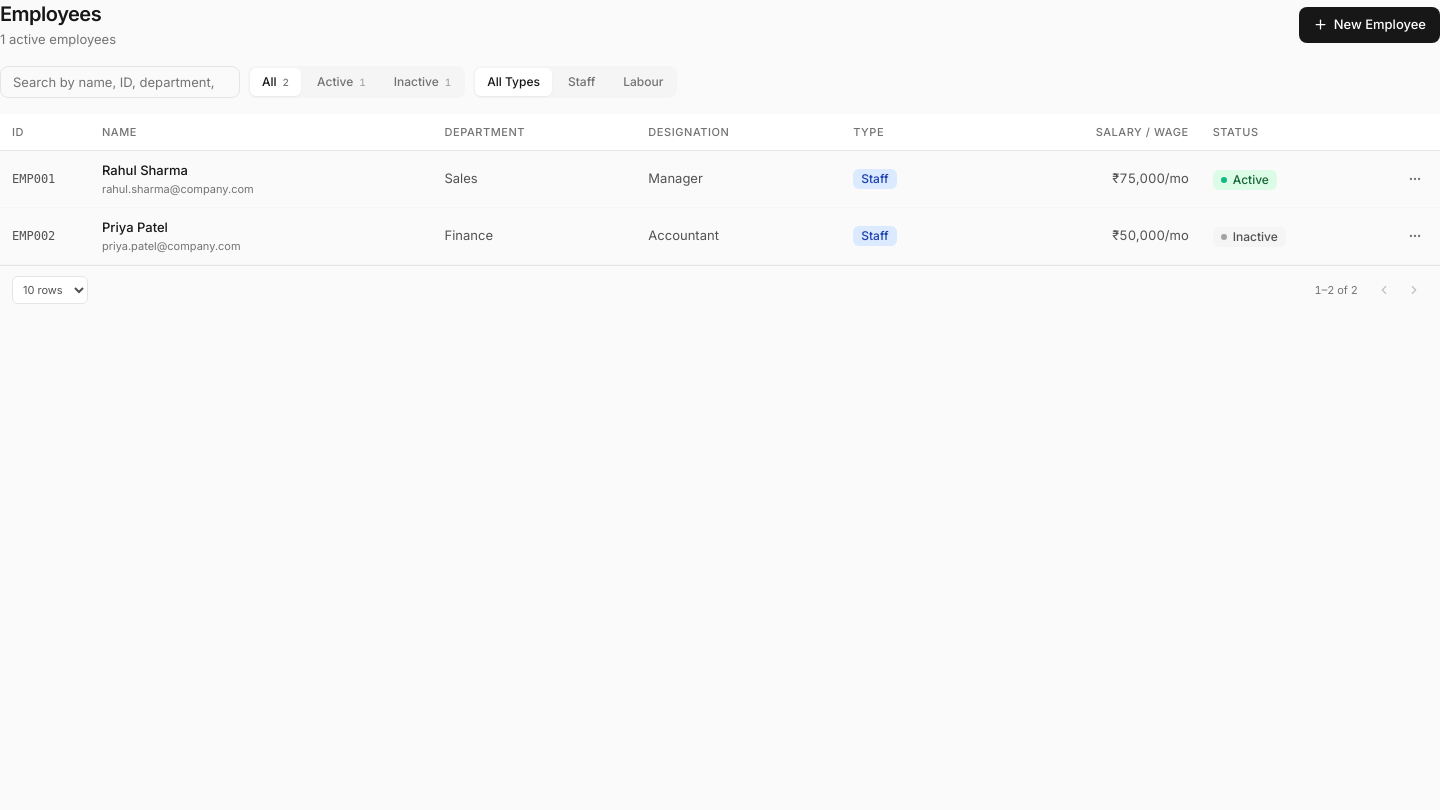
Scenario: EmployeesPage › validates required fields on create
The image size is (1440, 810).
Click the button "New Employee": (1369, 25) [1299, 7, 1439, 43]
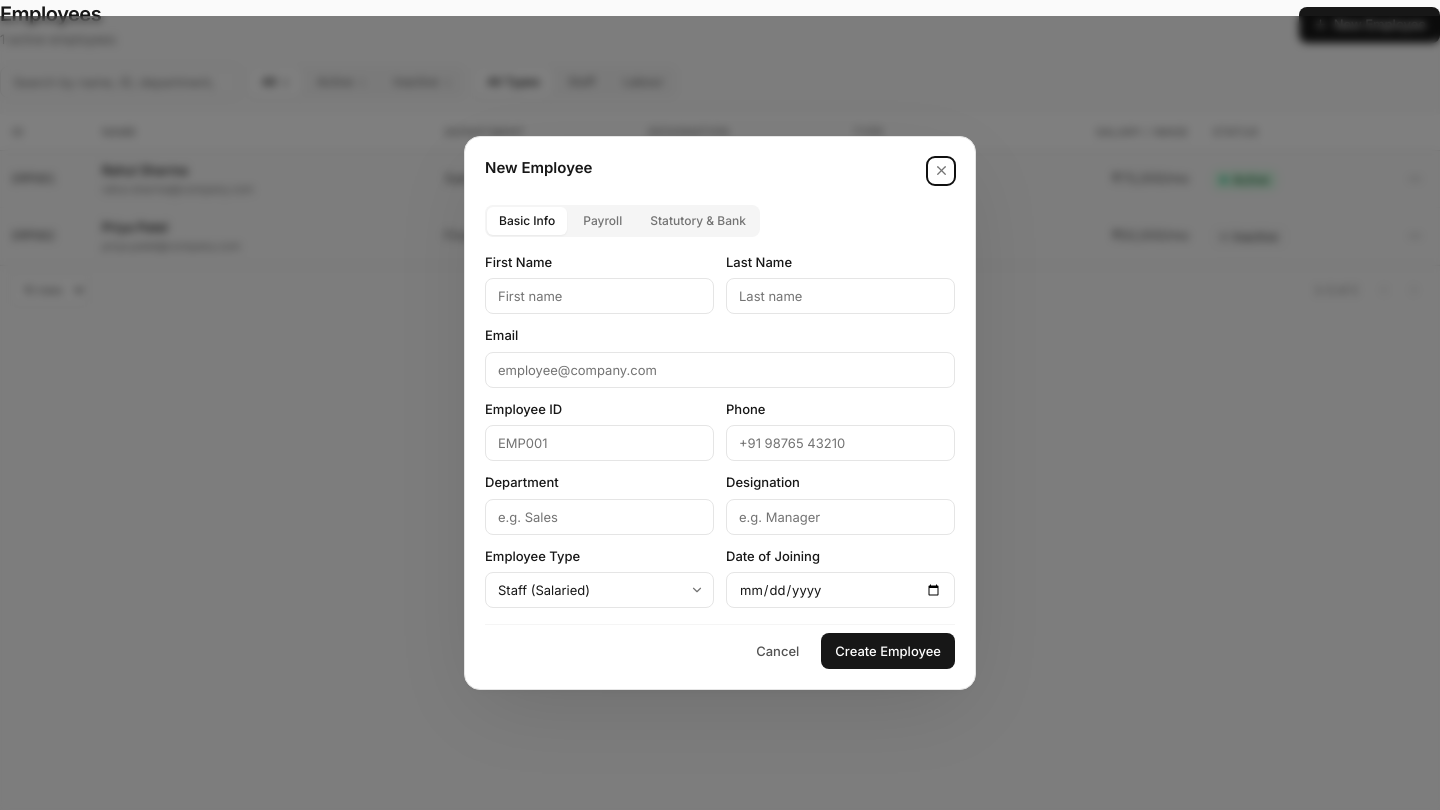
Click the button "Create Employee": (888, 651) [821, 633, 955, 669]
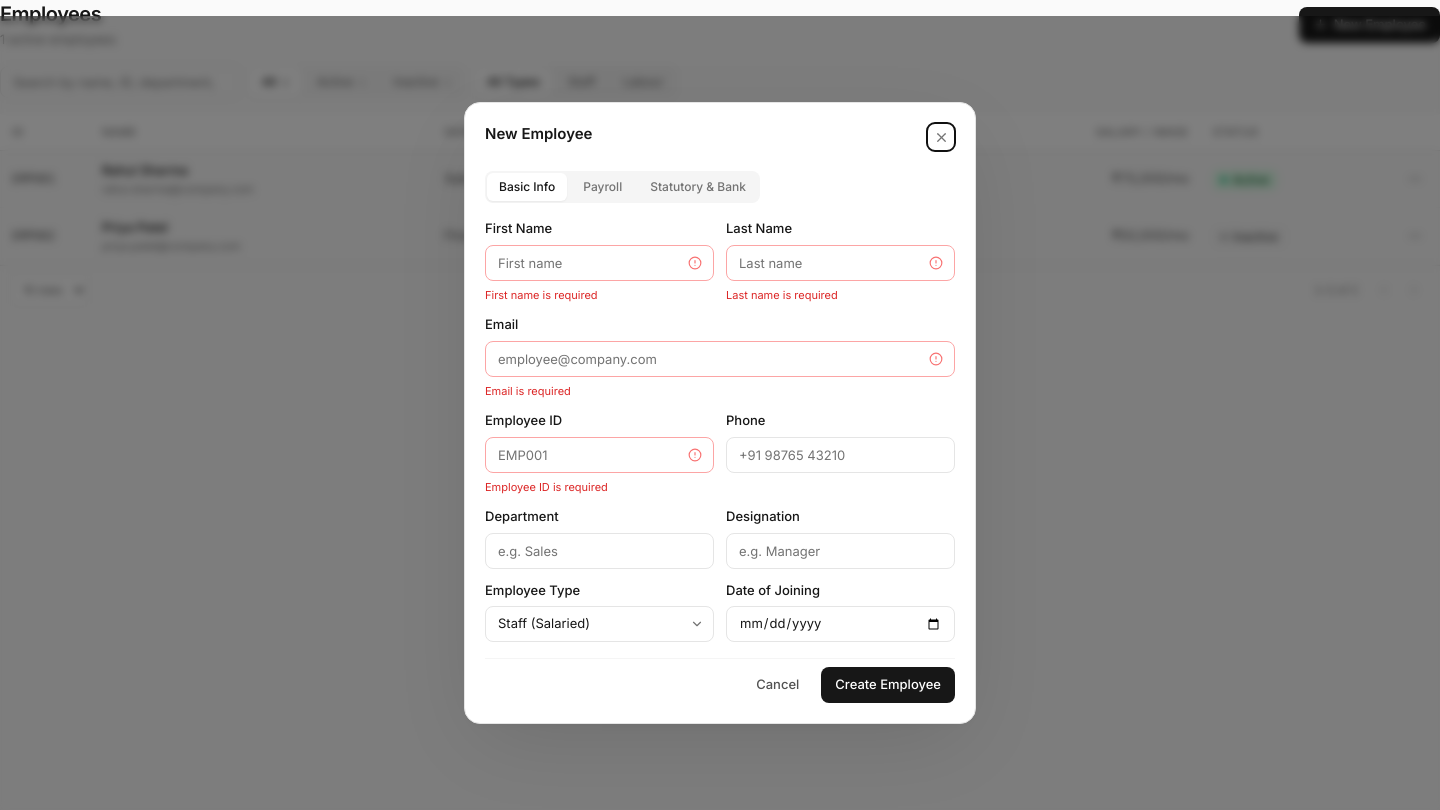
Expected: the text "First name is required" is shown, [485, 288, 598, 302]
